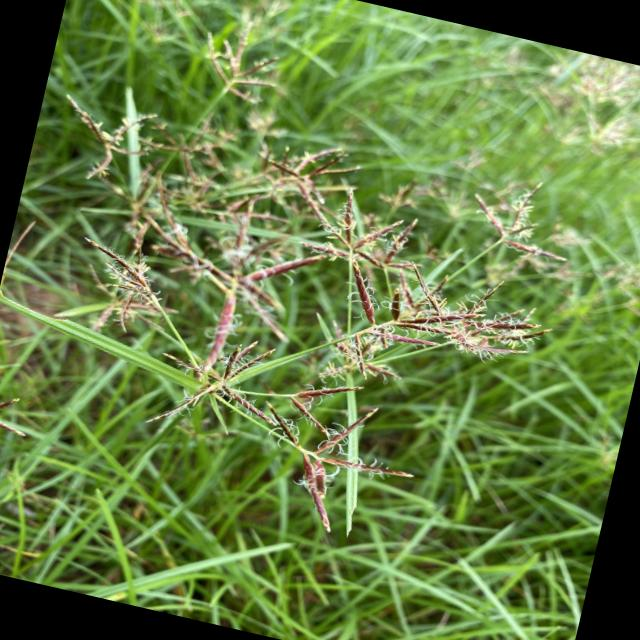cyperus: (164, 115, 586, 572), (12, 0, 353, 365), (220, 126, 589, 428), (122, 312, 428, 548)
